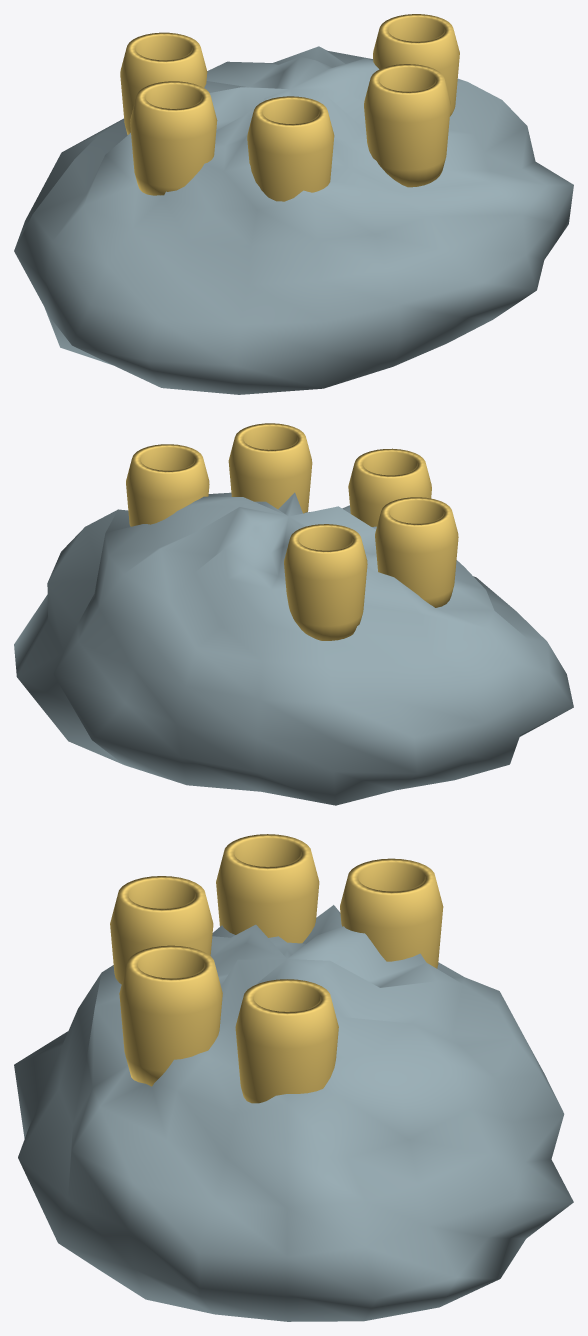
The model's file is underwater-reef-worlds-boring-sponge-rubble-bc59179f__7019.glb.
3 views of the same model, one above another, from view 1: azimuth 30°, elevation 25°; view 2: azimuth 150°, elevation 25°; view 3: azimuth 270°, elevation 25° (orthographic). The views are drawn at different scales.
Visible parts, largest first — view 1: boring-sponge-rubble; view 2: boring-sponge-rubble; view 3: boring-sponge-rubble.
Boxes of the visible parts, bbox=[...] form: boring-sponge-rubble: bbox=[14, 14, 573, 394]; boring-sponge-rubble: bbox=[14, 423, 573, 805]; boring-sponge-rubble: bbox=[14, 834, 573, 1321].
Bounding box in the file's own units: 0.8021 × 0.35 × 0.6495.
